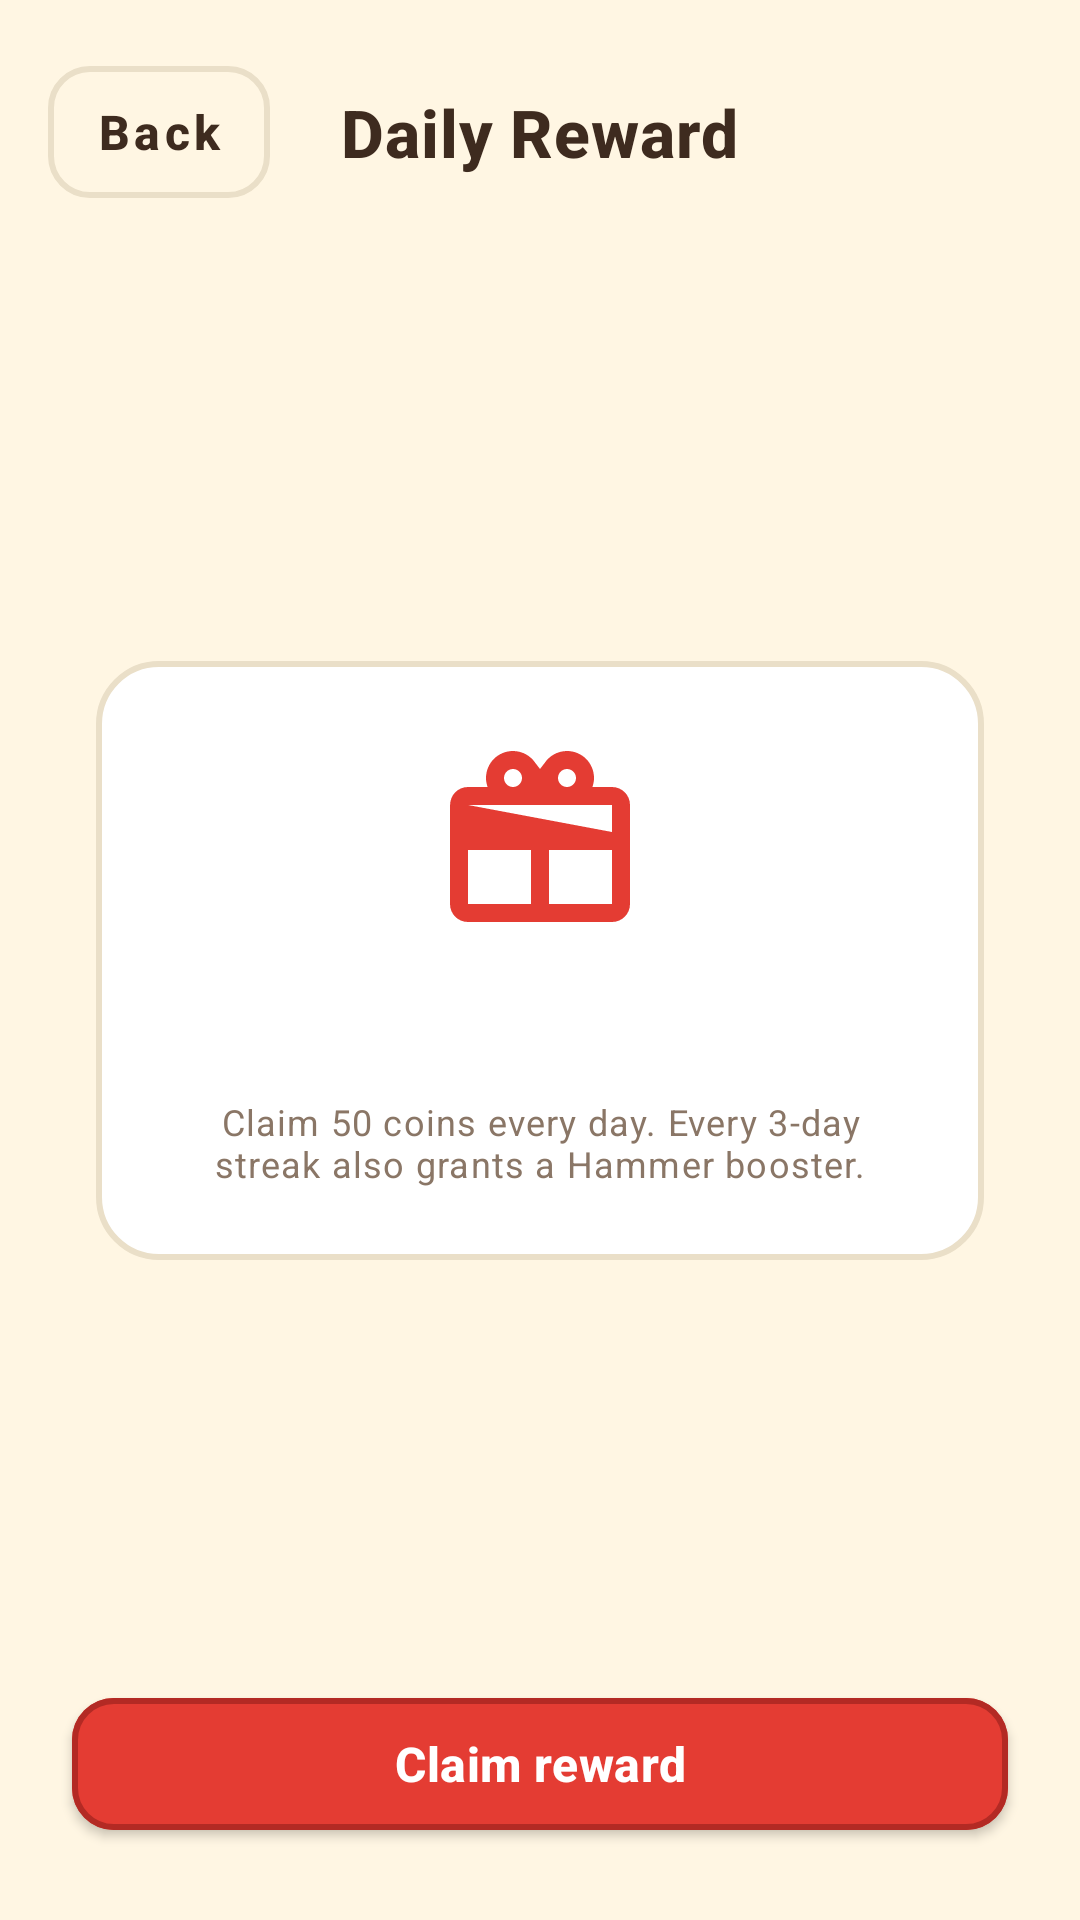

Point at icon controls on the screen. Image size 1080×1920, points as [x,y].
Daily reward: [540,836]
